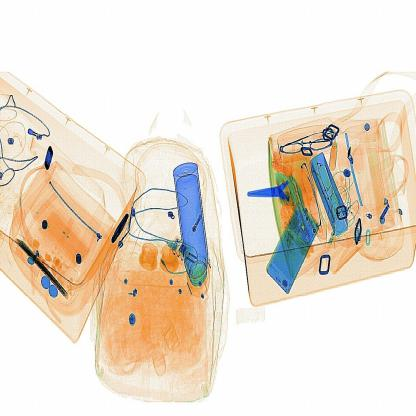gun: (242, 173, 306, 208)
